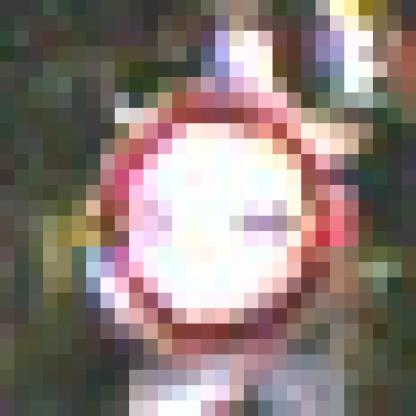No Overtaking: (87, 93, 345, 340)
